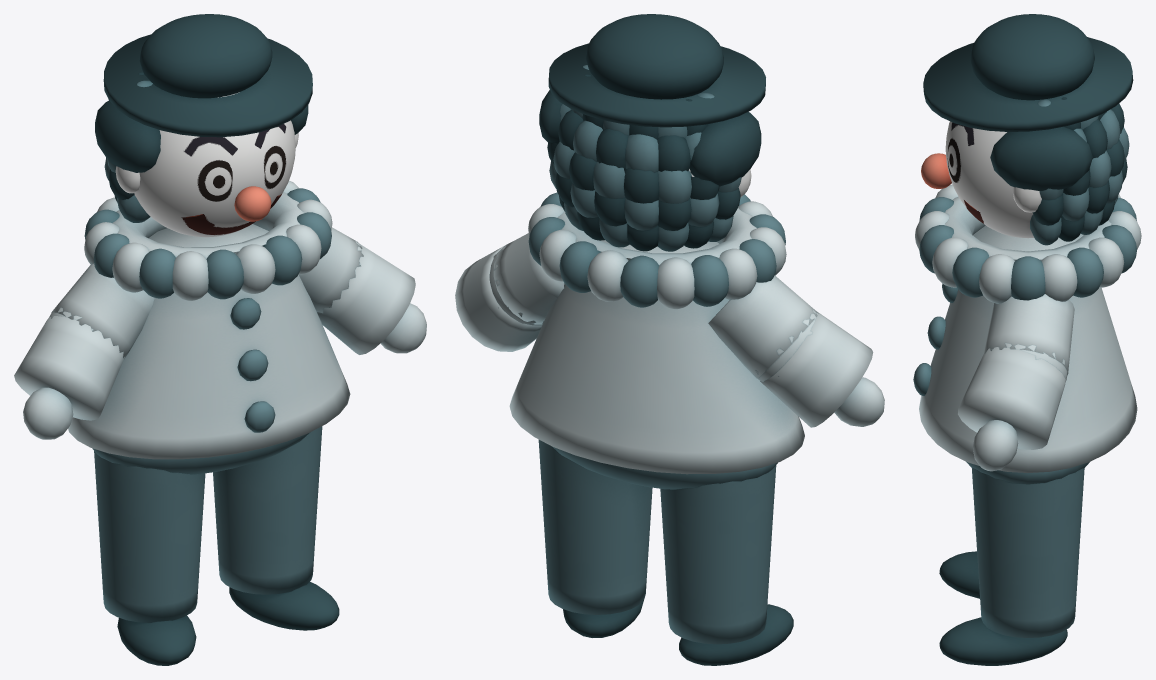
Rendered from clown_v2_static.glb.
3 renders of one model, left to right at view 1: azimuth 30°, elevation 25°; view 2: azimuth 150°, elevation 25°; view 3: azimuth 270°, elevation 25°, orthographic. The views are drawn at different scales.
Parts seen in each view (by area): view 1: body, head; view 2: body; view 3: body, head.
Boxes of the visible parts, x1,y1,x2,y2 form: body: (14, 14, 426, 665); head: (134, 92, 295, 237); body: (455, 14, 884, 665); body: (913, 14, 1141, 665); head: (945, 121, 1034, 238).
Bounding box in the file's own units: 1.24 × 1.79 × 0.6134.
2 materials, 2 textured.
